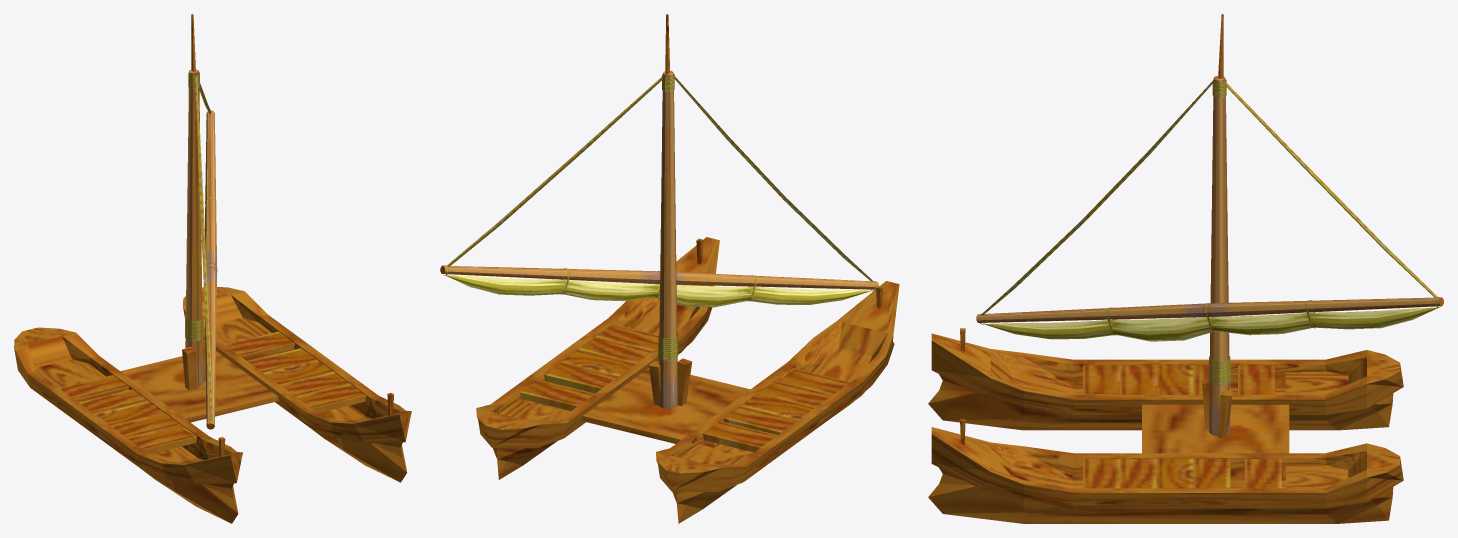
File: mammayacht00.dae
3 renders of one model, left to right at view 1: azimuth 30°, elevation 25°; view 2: azimuth 150°, elevation 25°; view 3: azimuth 270°, elevation 25°, orthographic. The views are drawn at different scales.
Parts seen in each view (by area): view 1: m0, m2, m1; view 2: m0, m2, m1; view 3: m0, m2, m1.
Boxes of the visible parts, x1=… form: m0: x1=28, y1=14, x2=407, y2=523; m2: x1=14, y1=287, x2=411, y2=484; m1: x1=185, y1=72, x2=217, y2=425; m0: x1=440, y1=14, x2=894, y2=523; m2: x1=476, y1=237, x2=899, y2=491; m1: x1=443, y1=74, x2=876, y2=360; m0: x1=928, y1=14, x2=1443, y2=523; m2: x1=931, y1=333, x2=1403, y2=508; m1: x1=978, y1=80, x2=1440, y2=384.
Size of the model in its own units: 855 by 1384 by 1399.
Materials: 3 (3 with a texture image).
